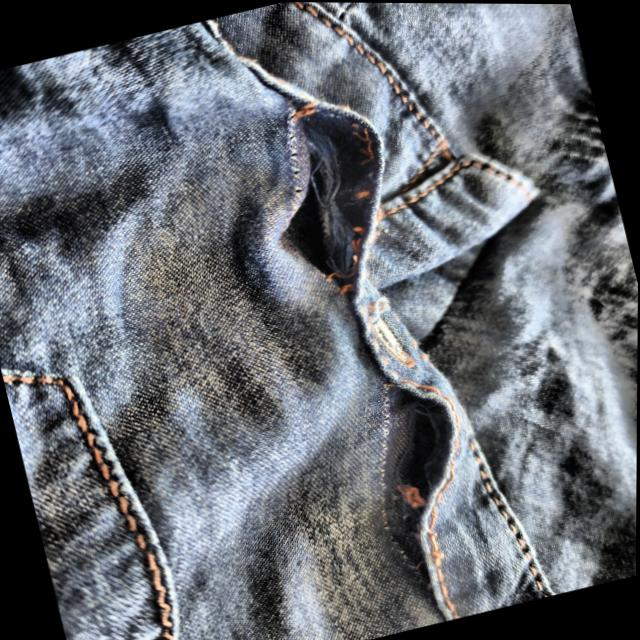seam: (219, 68, 430, 340), (338, 374, 509, 627)
